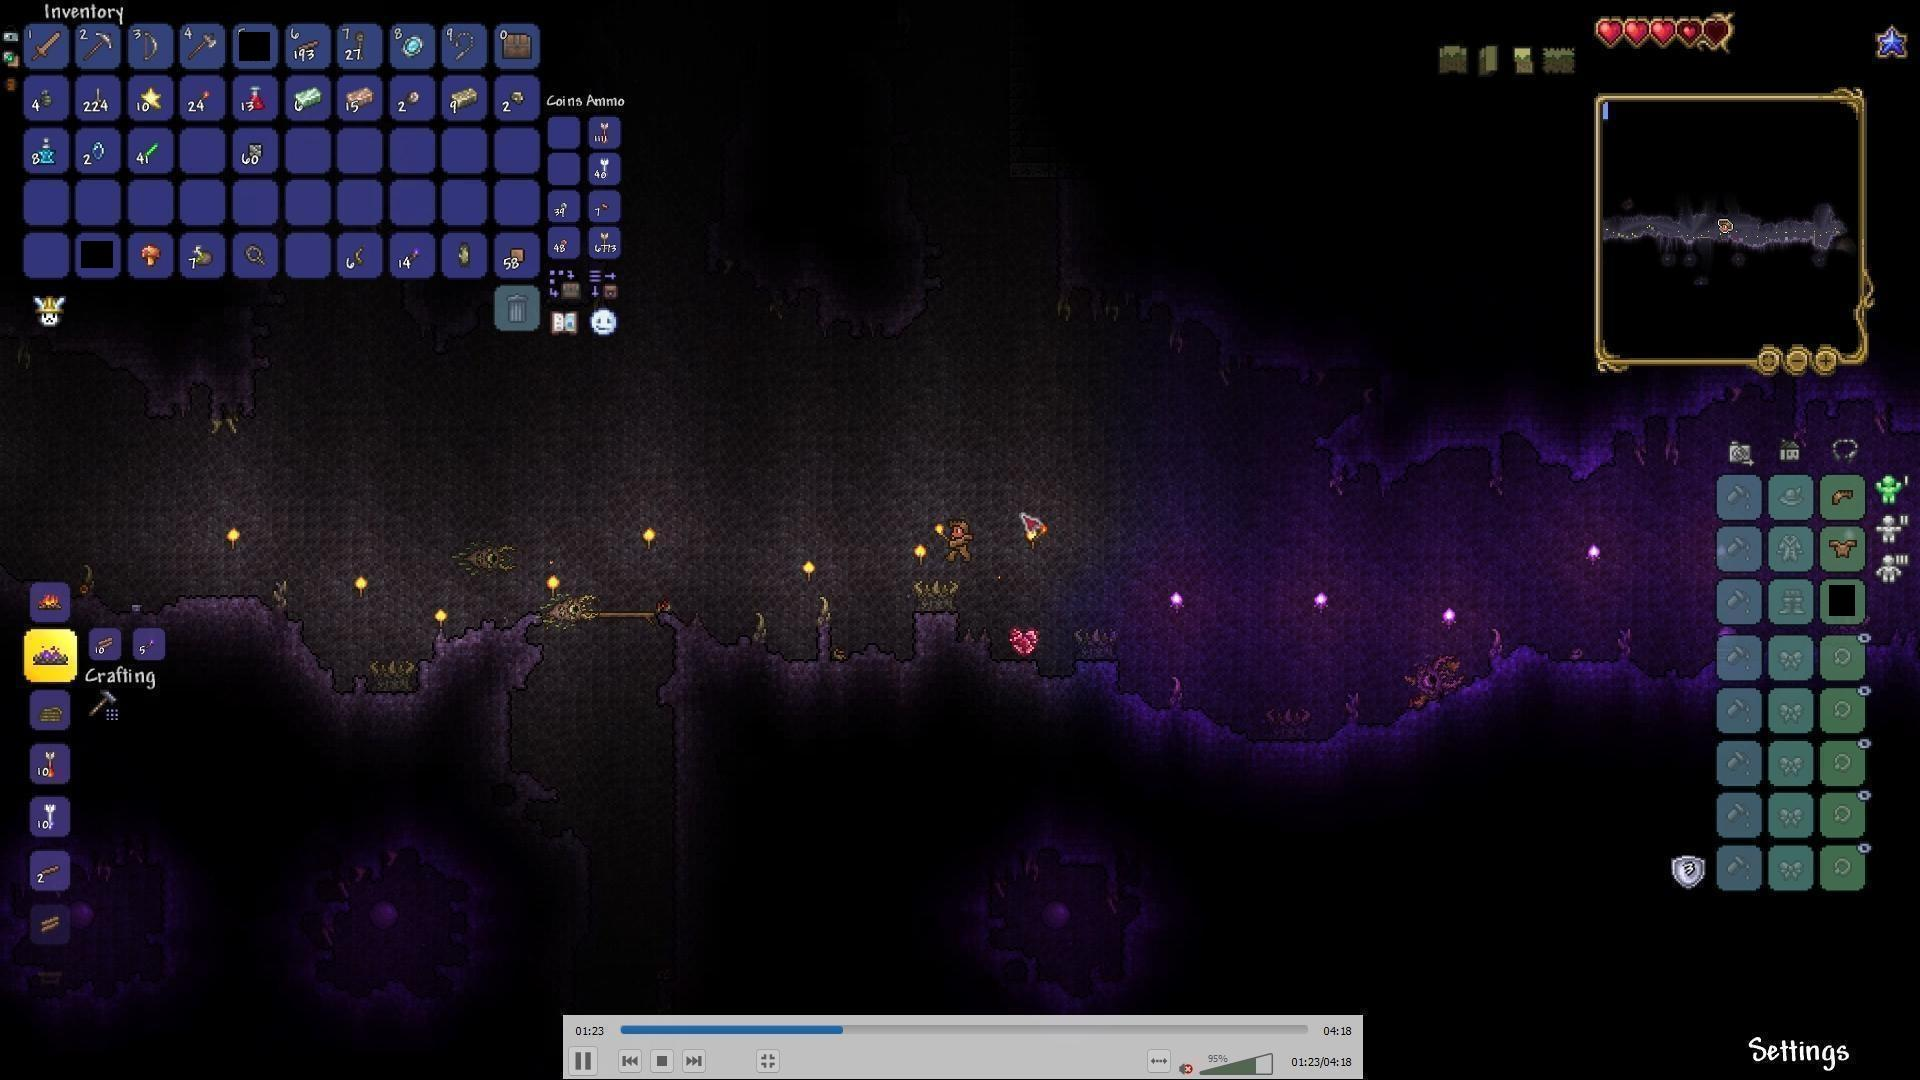breastplate: (1829, 535, 1859, 558)
helmet: (1825, 480, 1859, 512)
wood: (37, 911, 67, 939), (95, 632, 124, 659)
